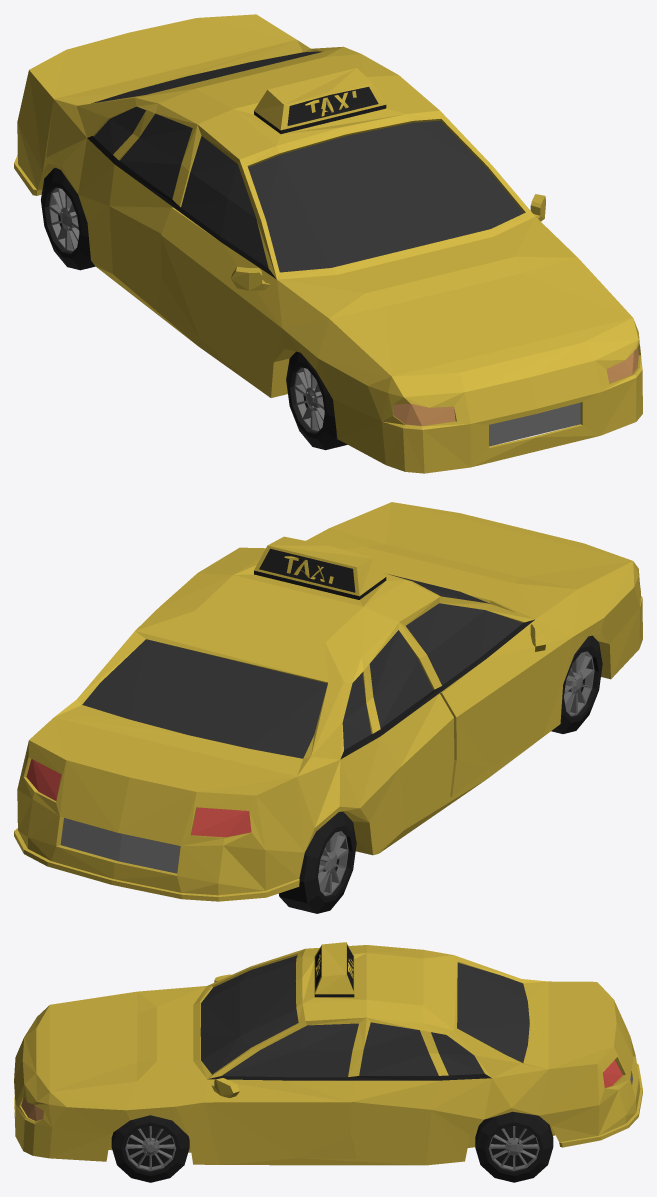
The model's file is taxi.glb.
3 views of the same model, one above another, from view 1: azimuth 30°, elevation 25°; view 2: azimuth 150°, elevation 25°; view 3: azimuth 270°, elevation 25° (orthographic). The views are drawn at different scales.
Visible parts, largest first — view 1: Taxi_Cube.009; view 2: Taxi_Cube.009; view 3: Taxi_Cube.009.
Boxes of the visible parts, x1,y1,x2,y2 form: Taxi_Cube.009: (14, 14, 642, 473); Taxi_Cube.009: (14, 502, 642, 913); Taxi_Cube.009: (14, 942, 642, 1182).
Bounding box in the file's own units: 1.81 × 1.31 × 4.22.
1 material, 1 textured.
